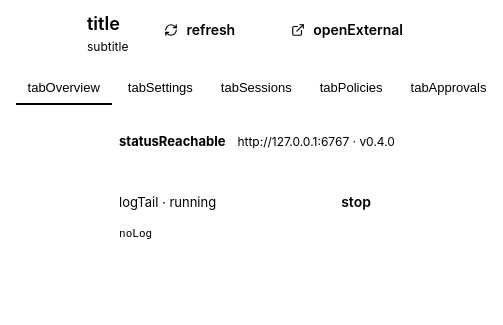
Scenario: WorkspaceConsole › renders policies, scheduled tasks, and a tolerant partial note
The image size is (503, 325).
Expected: the text "statusReachable" is shown, [119,133,225,149]
What coordinates should you click on to do the following:
click the button "tabPolicies"
I would click on:
 (351, 88)
Its box is [308,72,395,105].
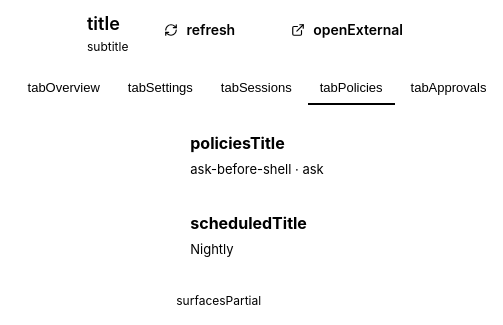
Result: the list item "ask-before-shell · ask" is shown at [190,161,324,177]
Result: the list item "Nightly" is shown at [190,241,234,257]
Result: the text "surfacesPartial" is shown at [176,293,261,308]
